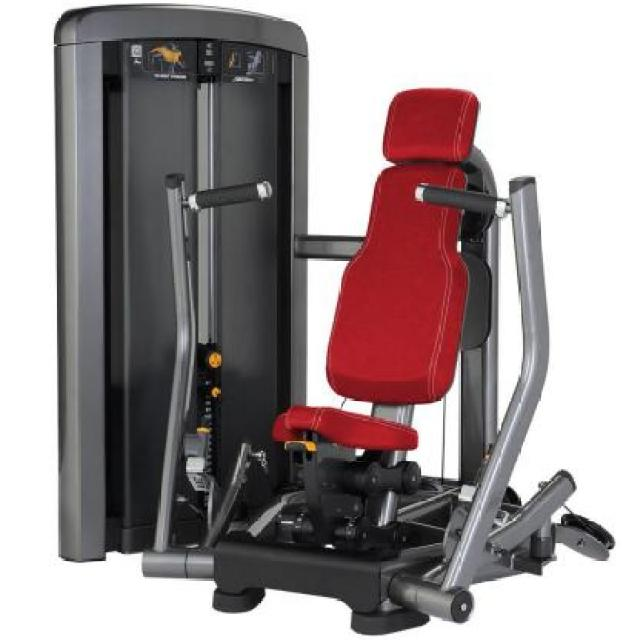Chest Press machine: (47, 0, 618, 640)
